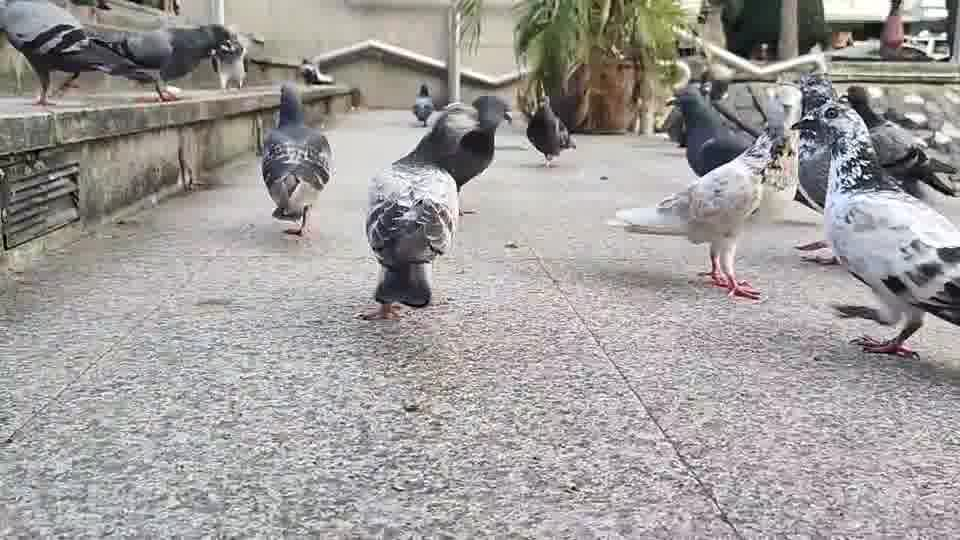Pigeon: (789, 99, 959, 361), (354, 93, 513, 320), (614, 126, 789, 302), (0, 0, 165, 106), (391, 94, 513, 215), (84, 22, 248, 101), (259, 80, 334, 236), (662, 79, 757, 178), (523, 95, 576, 168), (410, 82, 435, 126), (299, 58, 333, 85)
